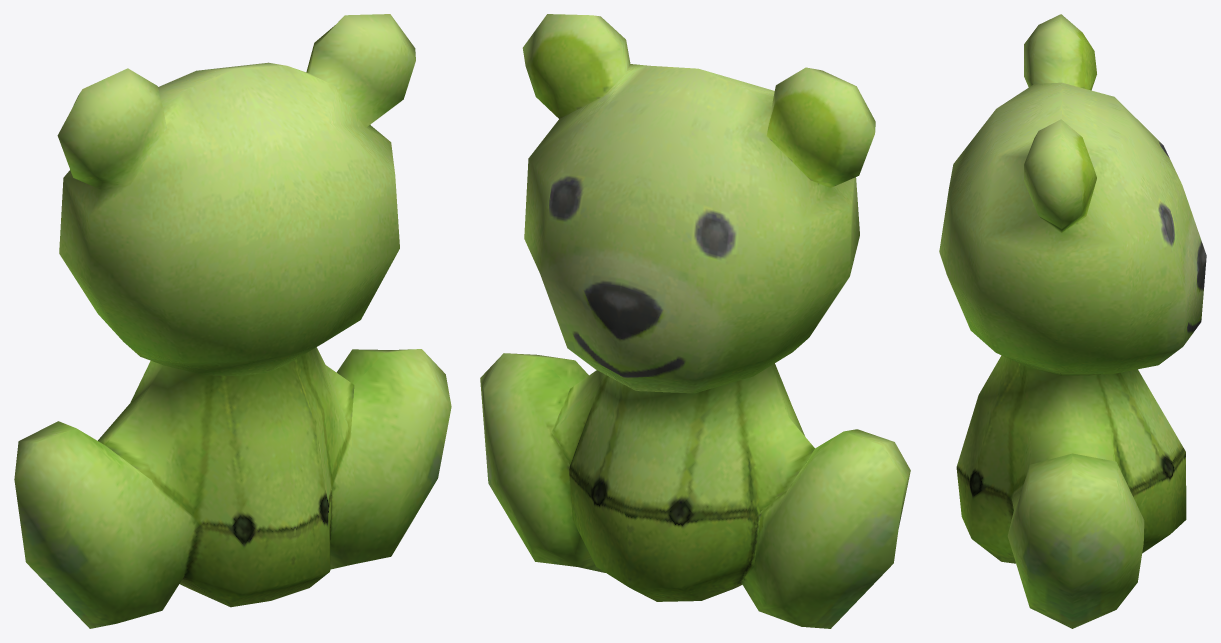
File: furni_0200146_02.FBX
3 renders of one model, left to right at view 1: azimuth 30°, elevation 25°; view 2: azimuth 150°, elevation 25°; view 3: azimuth 270°, elevation 25°, orthographic. The views are drawn at different scales.
Parts seen in each view (by area): view 1: furni_0200146_02; view 2: furni_0200146_02; view 3: furni_0200146_02.
Part boxes in pixels (<box>): furni_0200146_02: <box>14,14,451,628</box>; furni_0200146_02: <box>480,14,910,628</box>; furni_0200146_02: <box>939,14,1206,628</box>.
Bounding box in the file's own units: 46.51 × 57.44 × 28.07.
